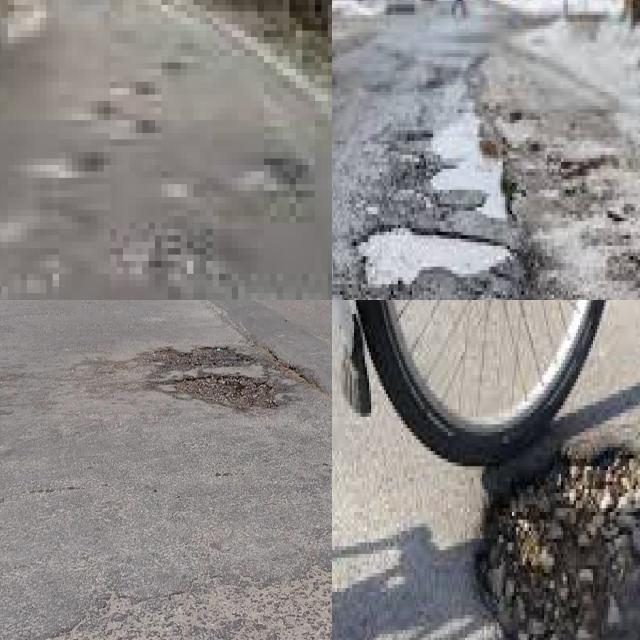Pothole: (474, 436, 640, 640), (27, 50, 193, 184), (147, 341, 278, 415), (363, 228, 507, 284), (431, 120, 505, 218), (123, 216, 219, 287), (251, 139, 309, 229), (270, 255, 309, 300)
